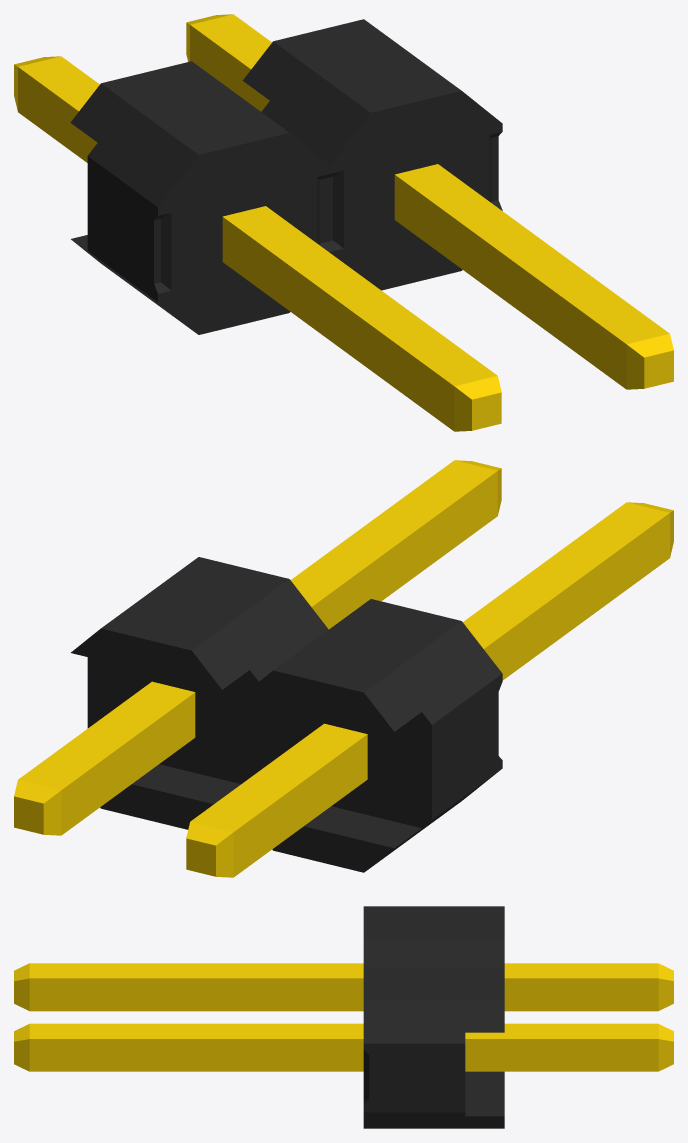
The model's file is PLS-2_(DS1021_CONNFLY).obj.
3 views of the same model, one above another, from view 1: azimuth 30°, elevation 25°; view 2: azimuth 150°, elevation 25°; view 3: azimuth 270°, elevation 25° (orthographic). The views are drawn at different scales.
Parts seen in each view (by area): view 1: PLS-2_(DS1021_CONNFLY); view 2: PLS-2_(DS1021_CONNFLY); view 3: PLS-2_(DS1021_CONNFLY).
Part boxes in pixels (bbox=[...]): PLS-2_(DS1021_CONNFLY): bbox=[14, 14, 673, 431]; PLS-2_(DS1021_CONNFLY): bbox=[14, 460, 673, 877]; PLS-2_(DS1021_CONNFLY): bbox=[14, 906, 673, 1128].
Size of the model in its own units: 0.0107 by 0.00533 by 0.0246.
